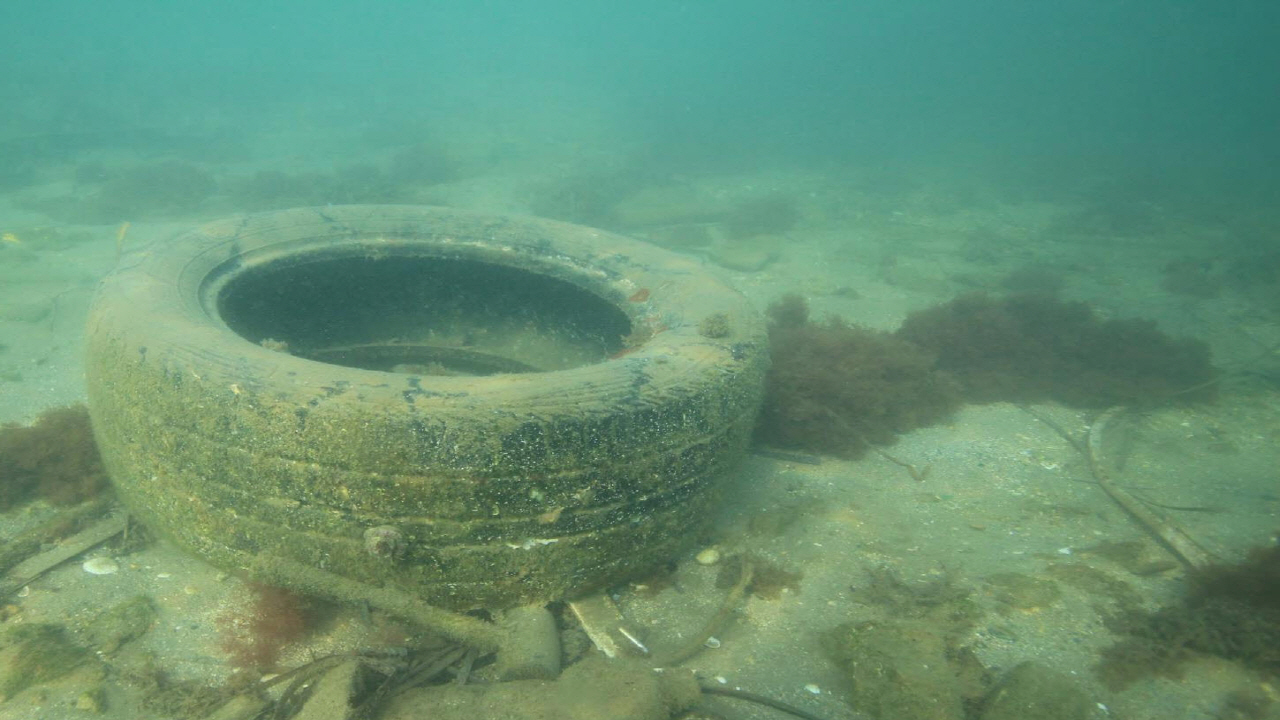tire: (80, 201, 767, 610)
